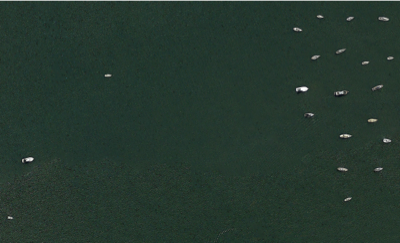boat: (334, 90, 350, 96), (296, 86, 309, 92), (22, 157, 35, 163), (336, 48, 347, 54), (340, 133, 353, 138), (378, 16, 390, 21), (373, 85, 384, 90), (311, 55, 321, 60), (293, 27, 303, 32), (338, 167, 349, 171), (368, 118, 379, 122), (304, 113, 315, 117), (374, 167, 384, 171), (383, 138, 392, 142), (346, 16, 355, 20), (344, 197, 352, 201), (362, 61, 370, 65), (387, 56, 395, 60), (316, 15, 325, 18), (105, 74, 113, 77), (7, 216, 14, 219), (372, 88, 374, 91)
